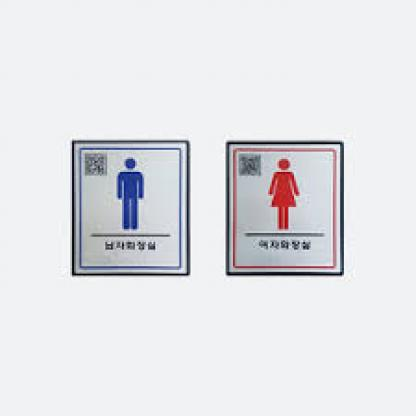toilet: (117, 158, 148, 232), (271, 156, 299, 232)
